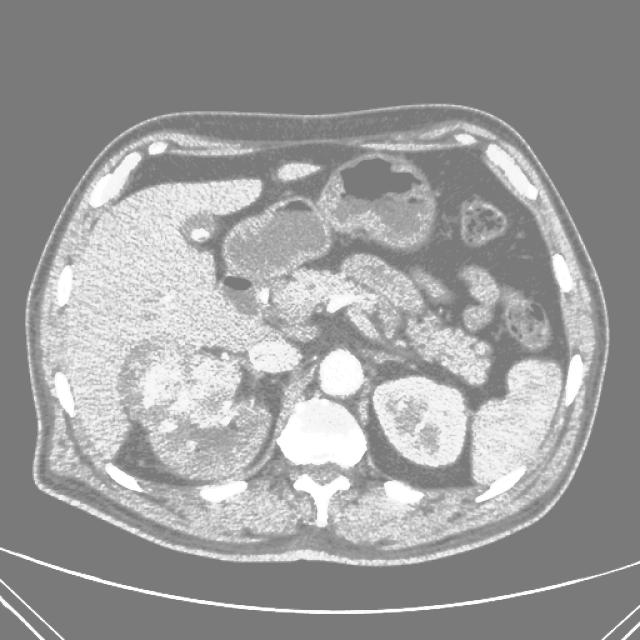TUMOR: (154, 205, 511, 452)
